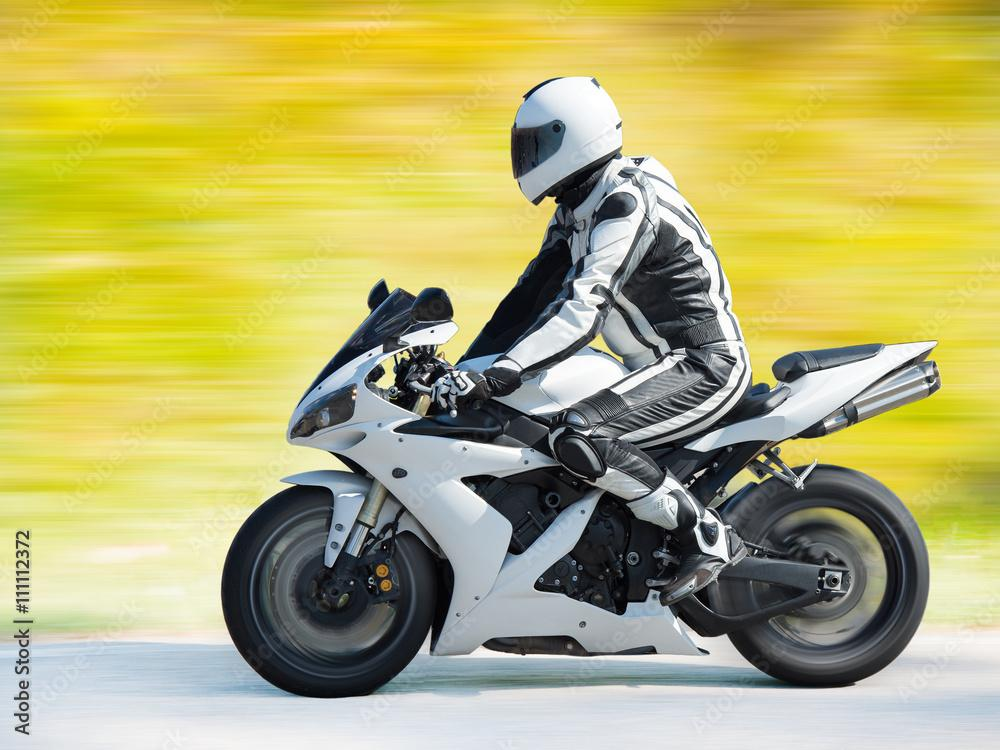helmet: (510, 75, 624, 207)
